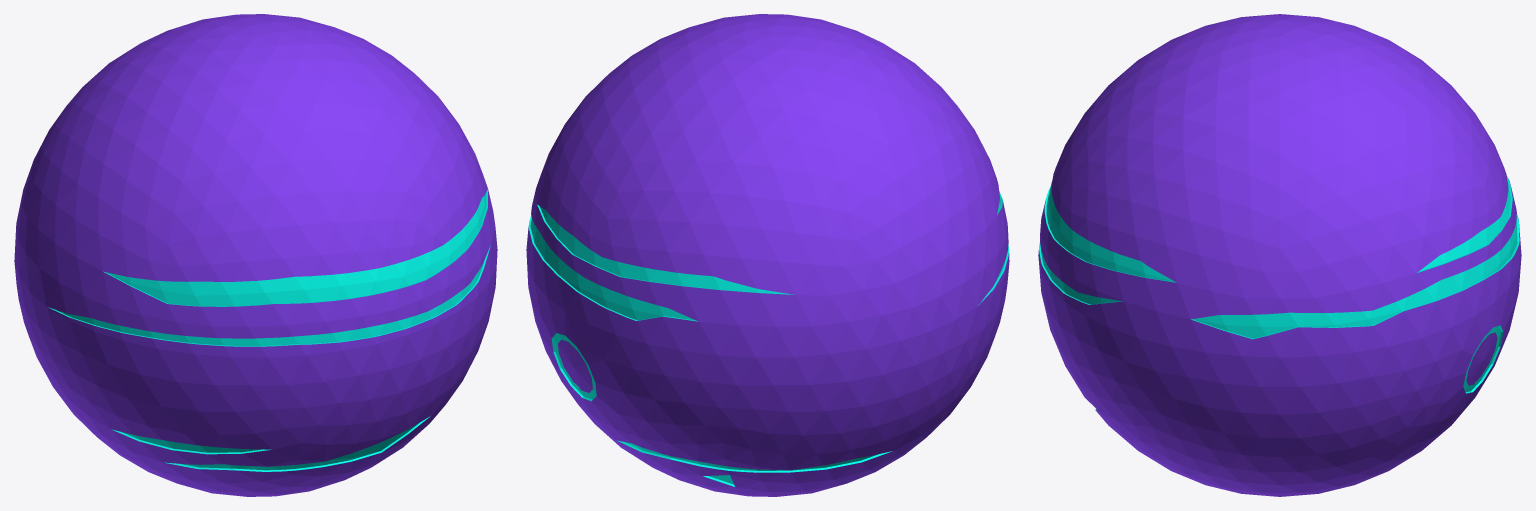
The model's file is Planet12.glb.
The picture shows the model from 3 angles, left to right: view 1: azimuth 30°, elevation 25°; view 2: azimuth 150°, elevation 25°; view 3: azimuth 270°, elevation 25°; orthographic projection.
Visible parts, largest first — view 1: Planet12; view 2: Planet12; view 3: Planet12.
Part boxes in pixels (bbox=[...]): Planet12: bbox=[14, 14, 497, 496]; Planet12: bbox=[526, 14, 1009, 496]; Planet12: bbox=[1038, 14, 1521, 496].
Size of the model in its own units: 10 by 10 by 10.
